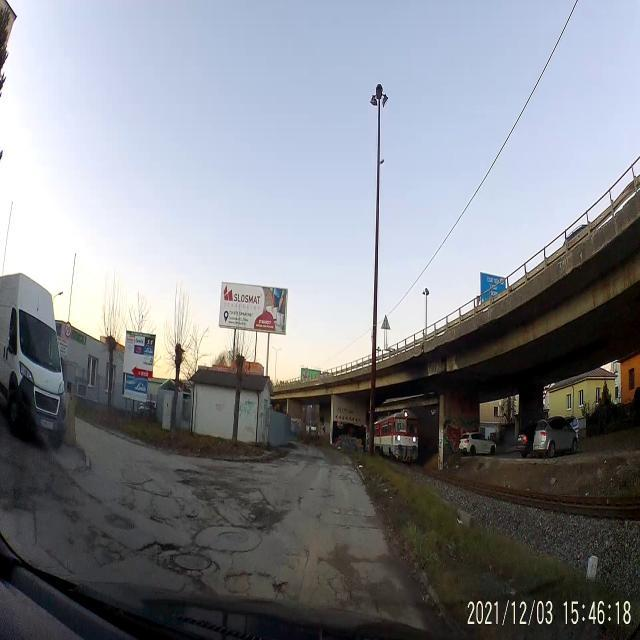Manhole: (104, 508, 140, 532), (172, 551, 211, 571), (216, 530, 248, 546)
Pothole: (248, 502, 290, 536), (140, 536, 174, 574), (218, 567, 256, 595), (269, 572, 289, 598)
